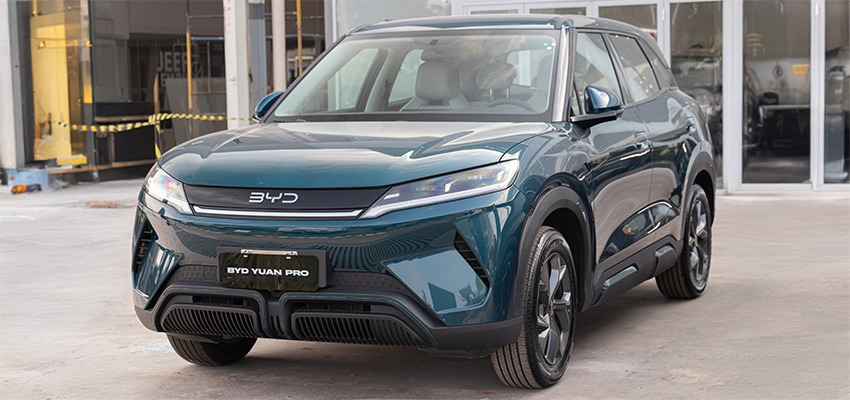car: (122, 8, 718, 385), (708, 52, 848, 151), (745, 98, 846, 155)
